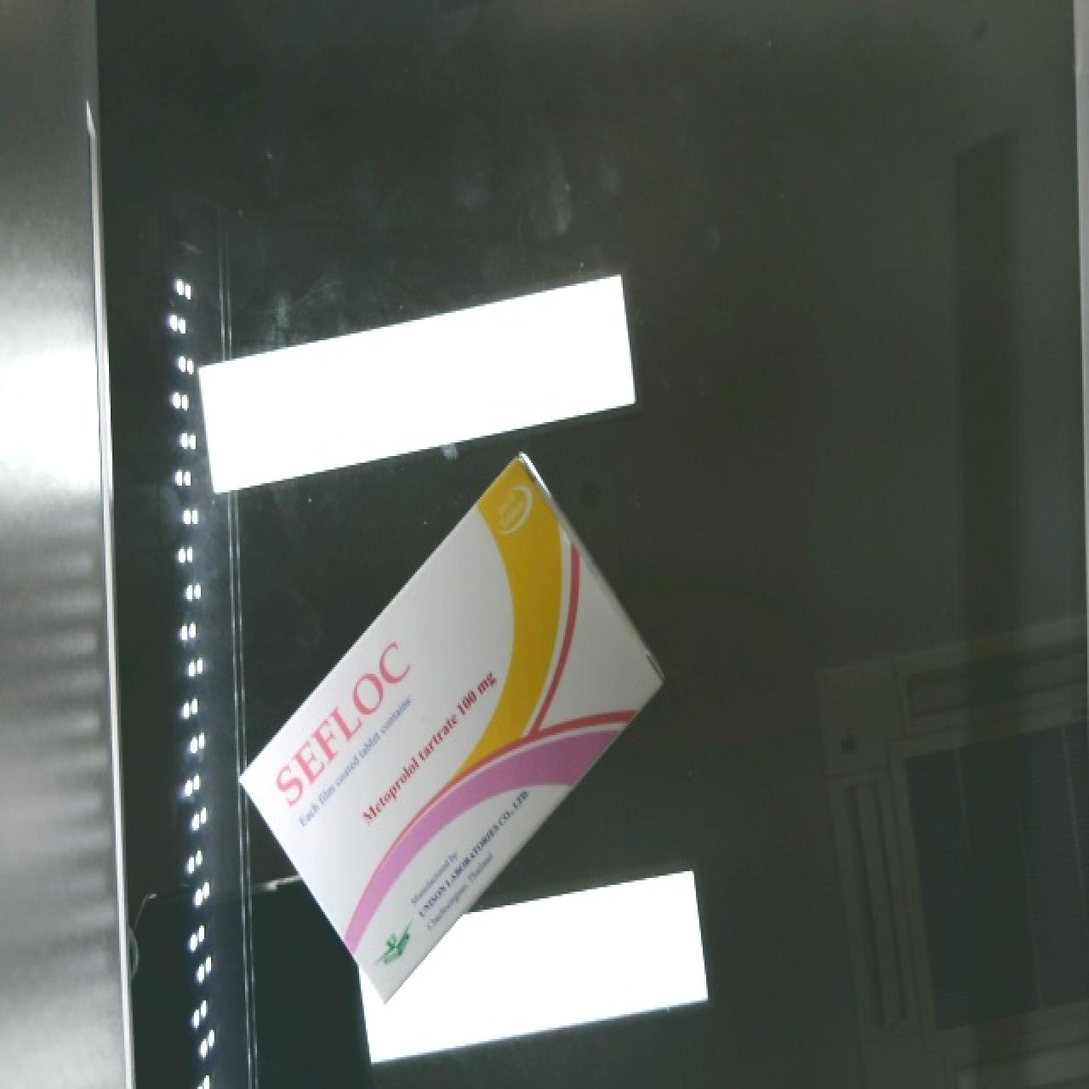medicine_label_obb: (236, 612, 440, 828)
